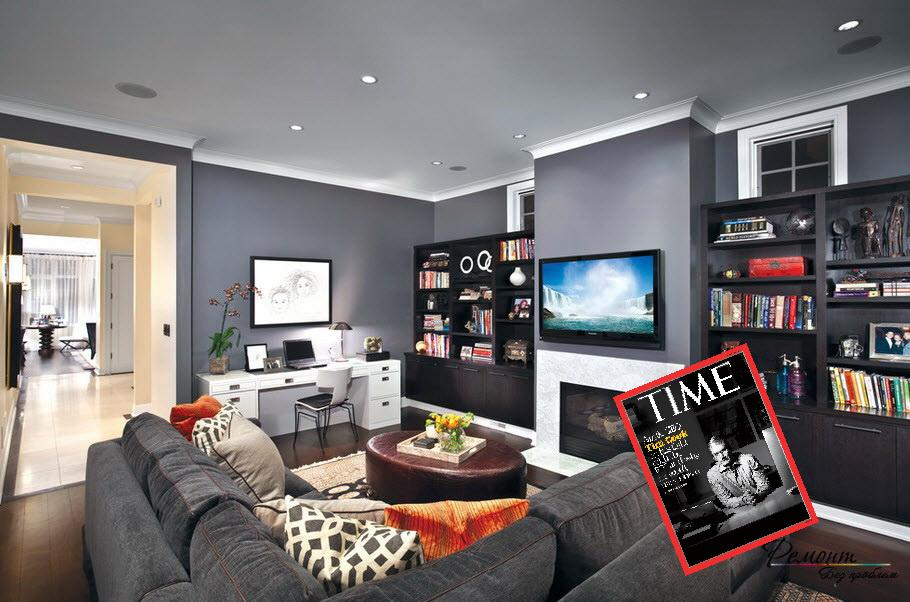times: (609, 342, 819, 579)
